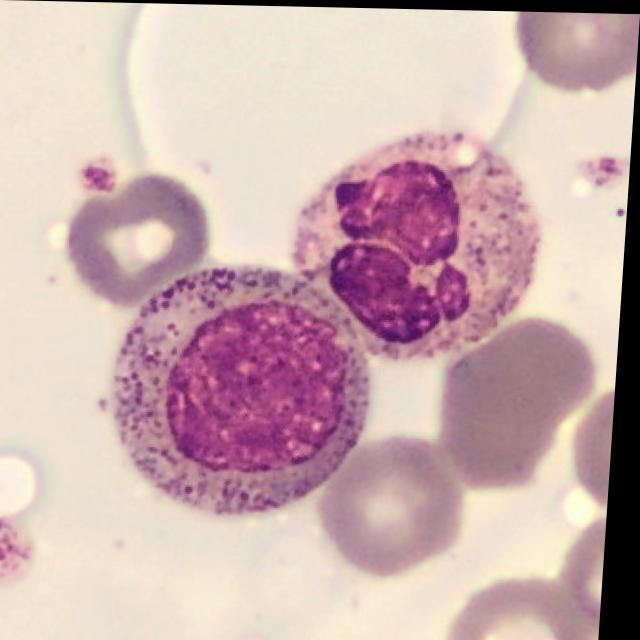Mielocito: (118, 268, 380, 514)
Neutrofilo segmentado: (297, 127, 543, 364)
